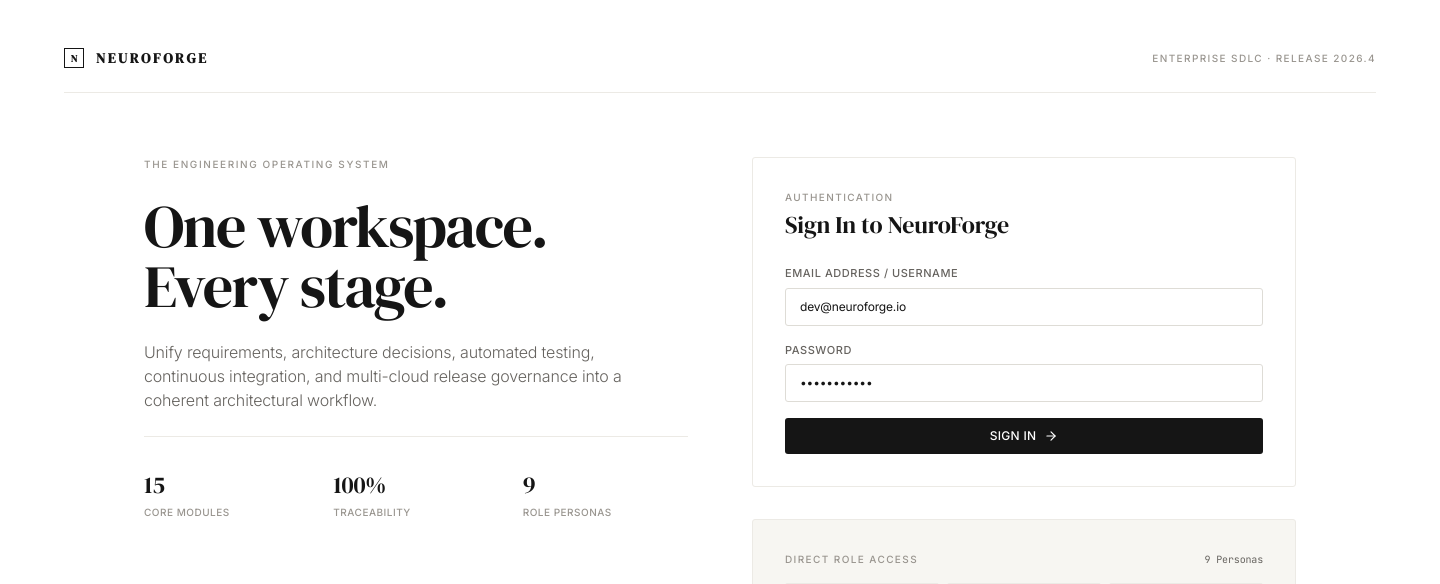
Area B: Authentication & Login › displays error message when login fails
What coordinates should you click on to do the following:
click the button "Sign In"
I would click on:
 (1024, 436)
Its box is left=785, top=418, right=1263, bottom=454.
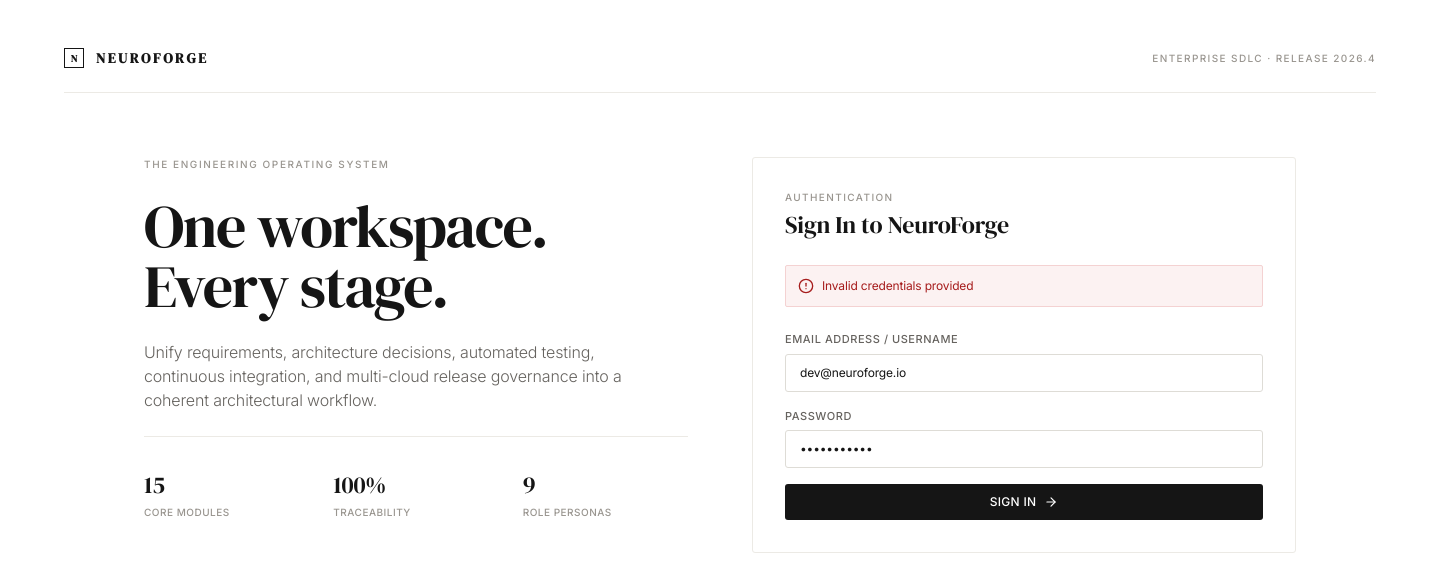
Expected: the text "Invalid credentials provided" is shown, left=822, top=278, right=973, bottom=294
